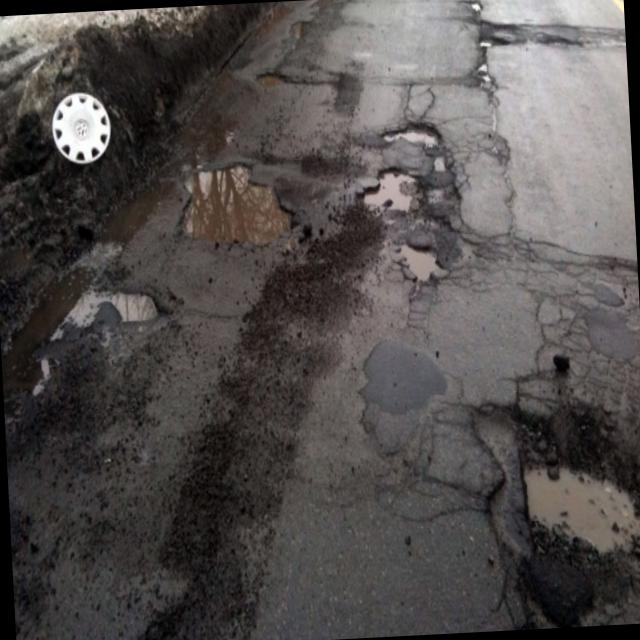Potholes: (498, 390, 640, 574), (178, 152, 304, 266), (52, 272, 164, 346), (354, 157, 419, 231), (396, 232, 454, 304), (389, 117, 445, 171)
